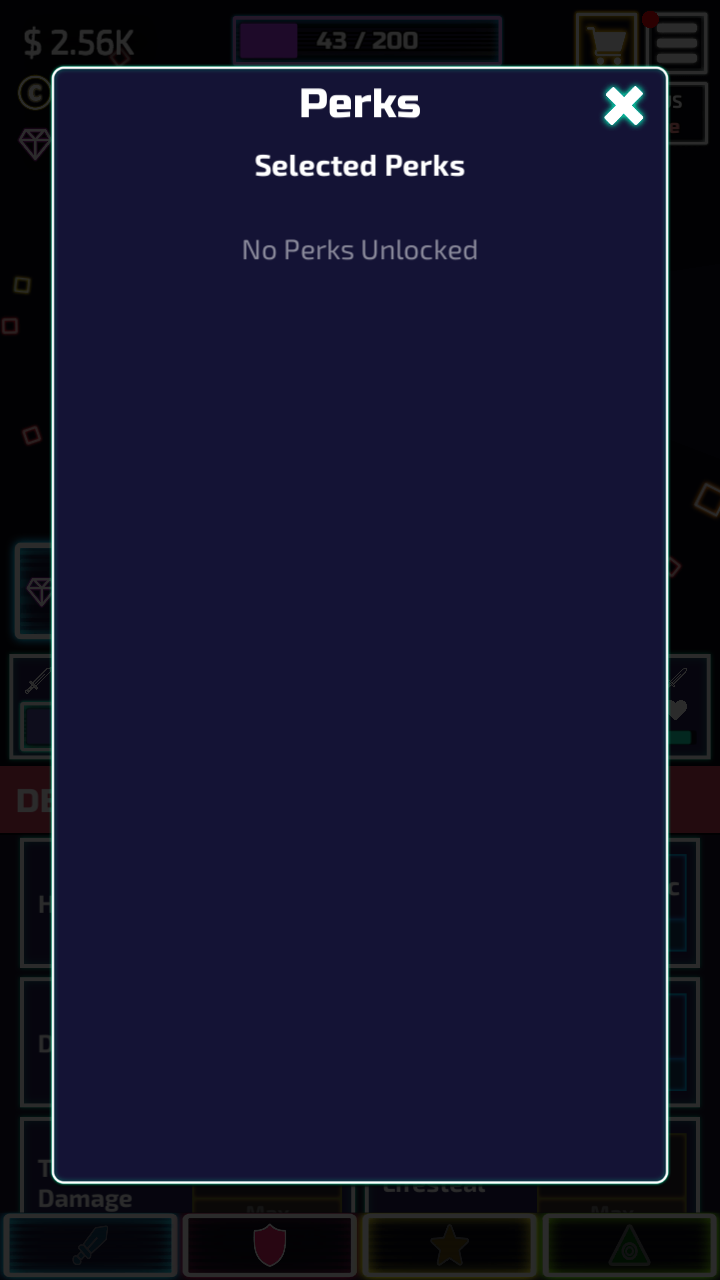B_Gem_Ad: (7, 543, 48, 643)
B_Menu_Action_Required: (637, 11, 709, 66)
B_Menu_Closed: (571, 15, 705, 66)
B_Perk_Window: (49, 63, 671, 1187)
B_Selected_Perks: (75, 142, 648, 287)
